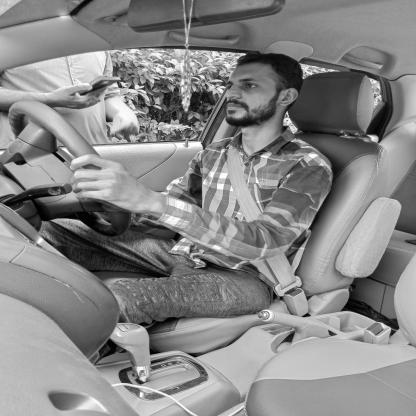seatbelt: (219, 48, 306, 234)
